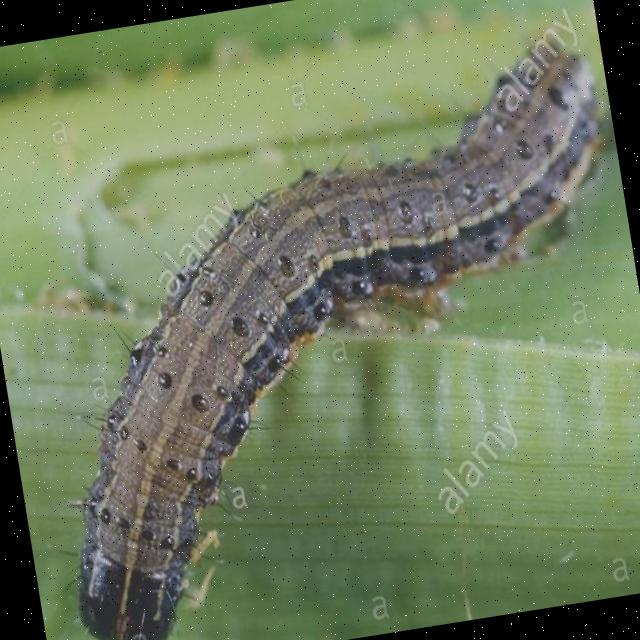worm: (1, 3, 640, 640)
